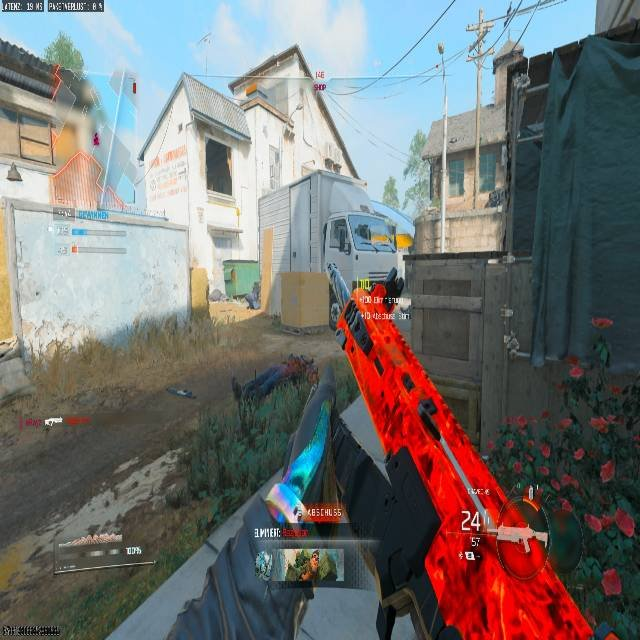player: (249, 278, 260, 309)
